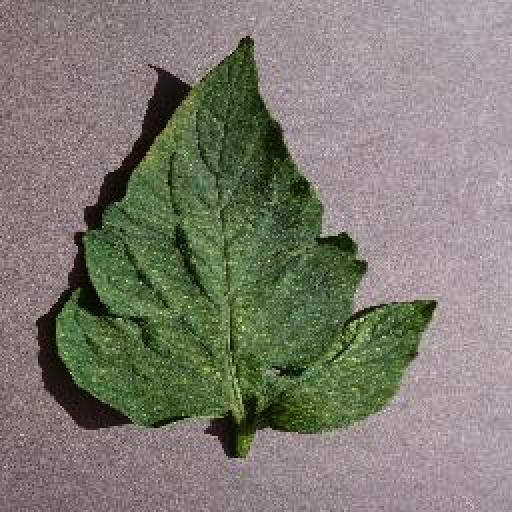disease_tomato: (56, 32, 436, 436)
